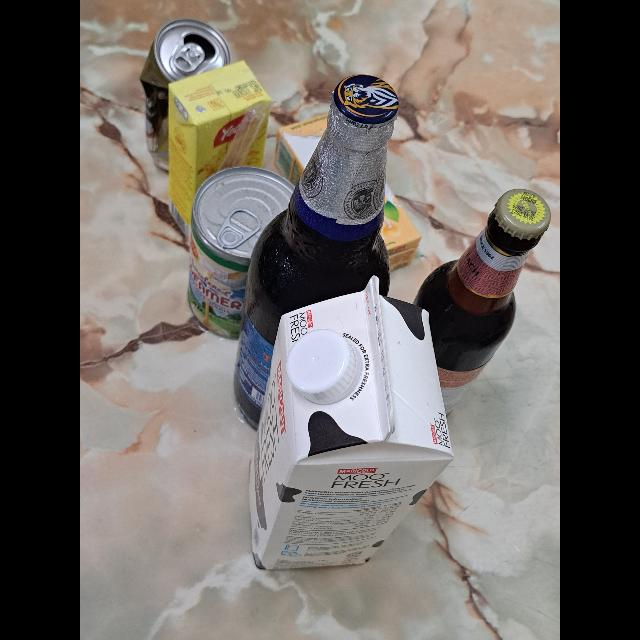aba de lata: (216, 200, 258, 250), (170, 38, 203, 72)
caixinha: (252, 276, 444, 576), (276, 109, 416, 264), (162, 59, 268, 234)
garrafa de vidro: (235, 73, 398, 431), (418, 185, 550, 388)
lata: (193, 161, 297, 339), (145, 20, 233, 170)
tampa plástica: (284, 327, 366, 403)
